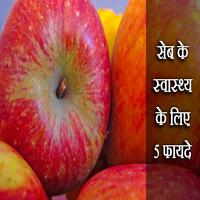apple: (4, 1, 115, 187)
